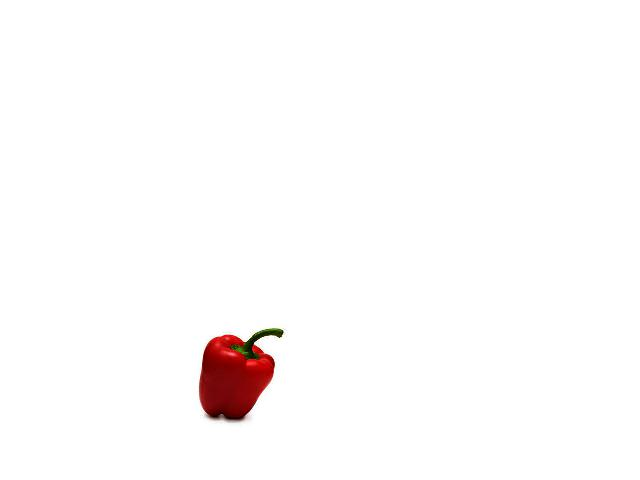bell_pepper: (195, 323, 285, 425)
